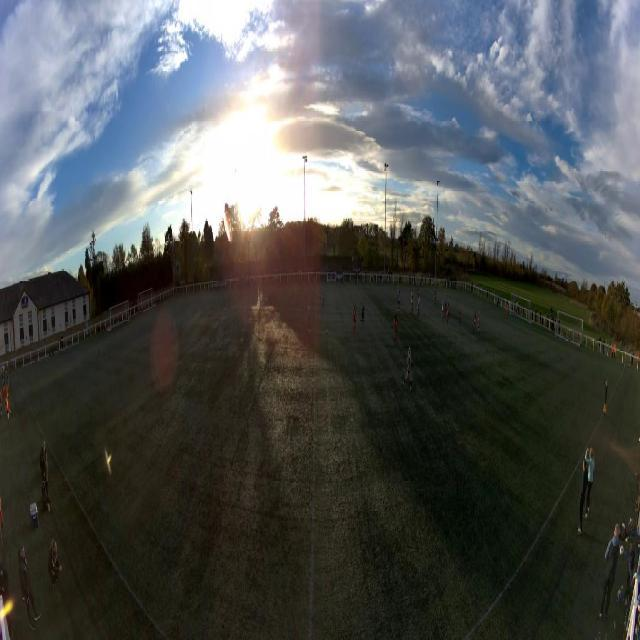ball: (326, 329, 329, 335)
player: (402, 345, 414, 392), (360, 301, 365, 326), (307, 302, 311, 333), (394, 315, 398, 344), (353, 305, 357, 333), (473, 310, 477, 335), (410, 293, 414, 315), (416, 297, 420, 317), (397, 291, 401, 310), (477, 313, 480, 338), (446, 305, 449, 327), (441, 301, 444, 322), (444, 295, 447, 315), (171, 306, 174, 326), (319, 287, 322, 307), (322, 291, 325, 308), (459, 301, 461, 322), (447, 295, 450, 307), (434, 288, 436, 305), (506, 304, 508, 319), (397, 283, 399, 298), (418, 285, 420, 299)
